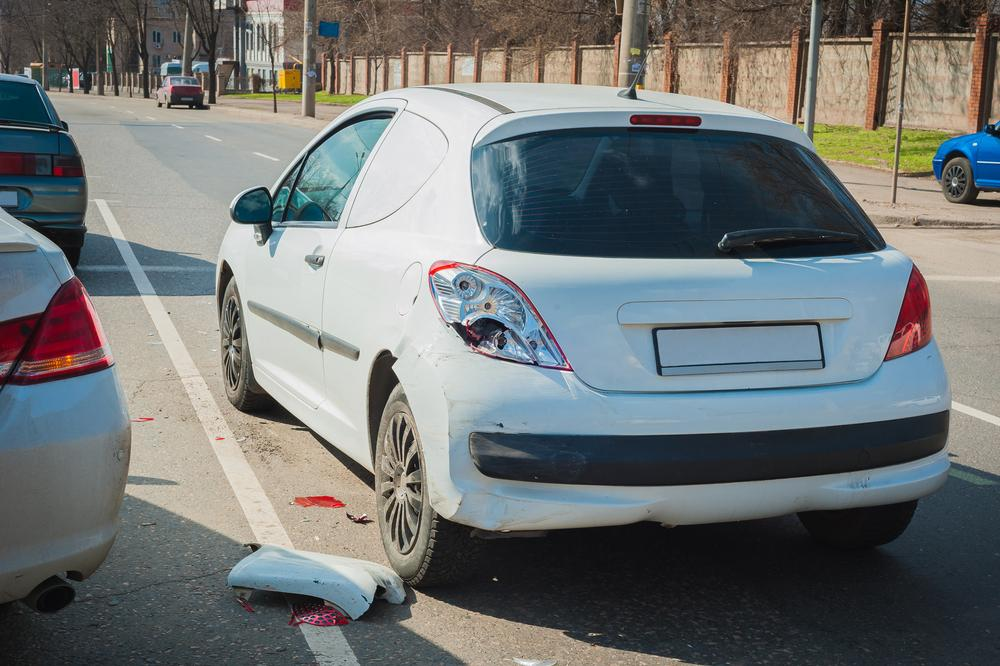lamp broken: (427, 260, 572, 369)
